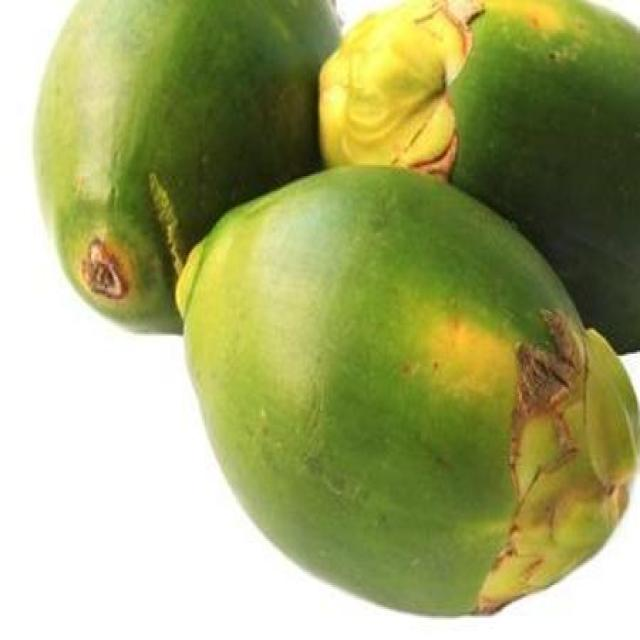good: (175, 165, 639, 618), (31, 0, 343, 337), (448, 0, 639, 354), (319, 0, 482, 182)
